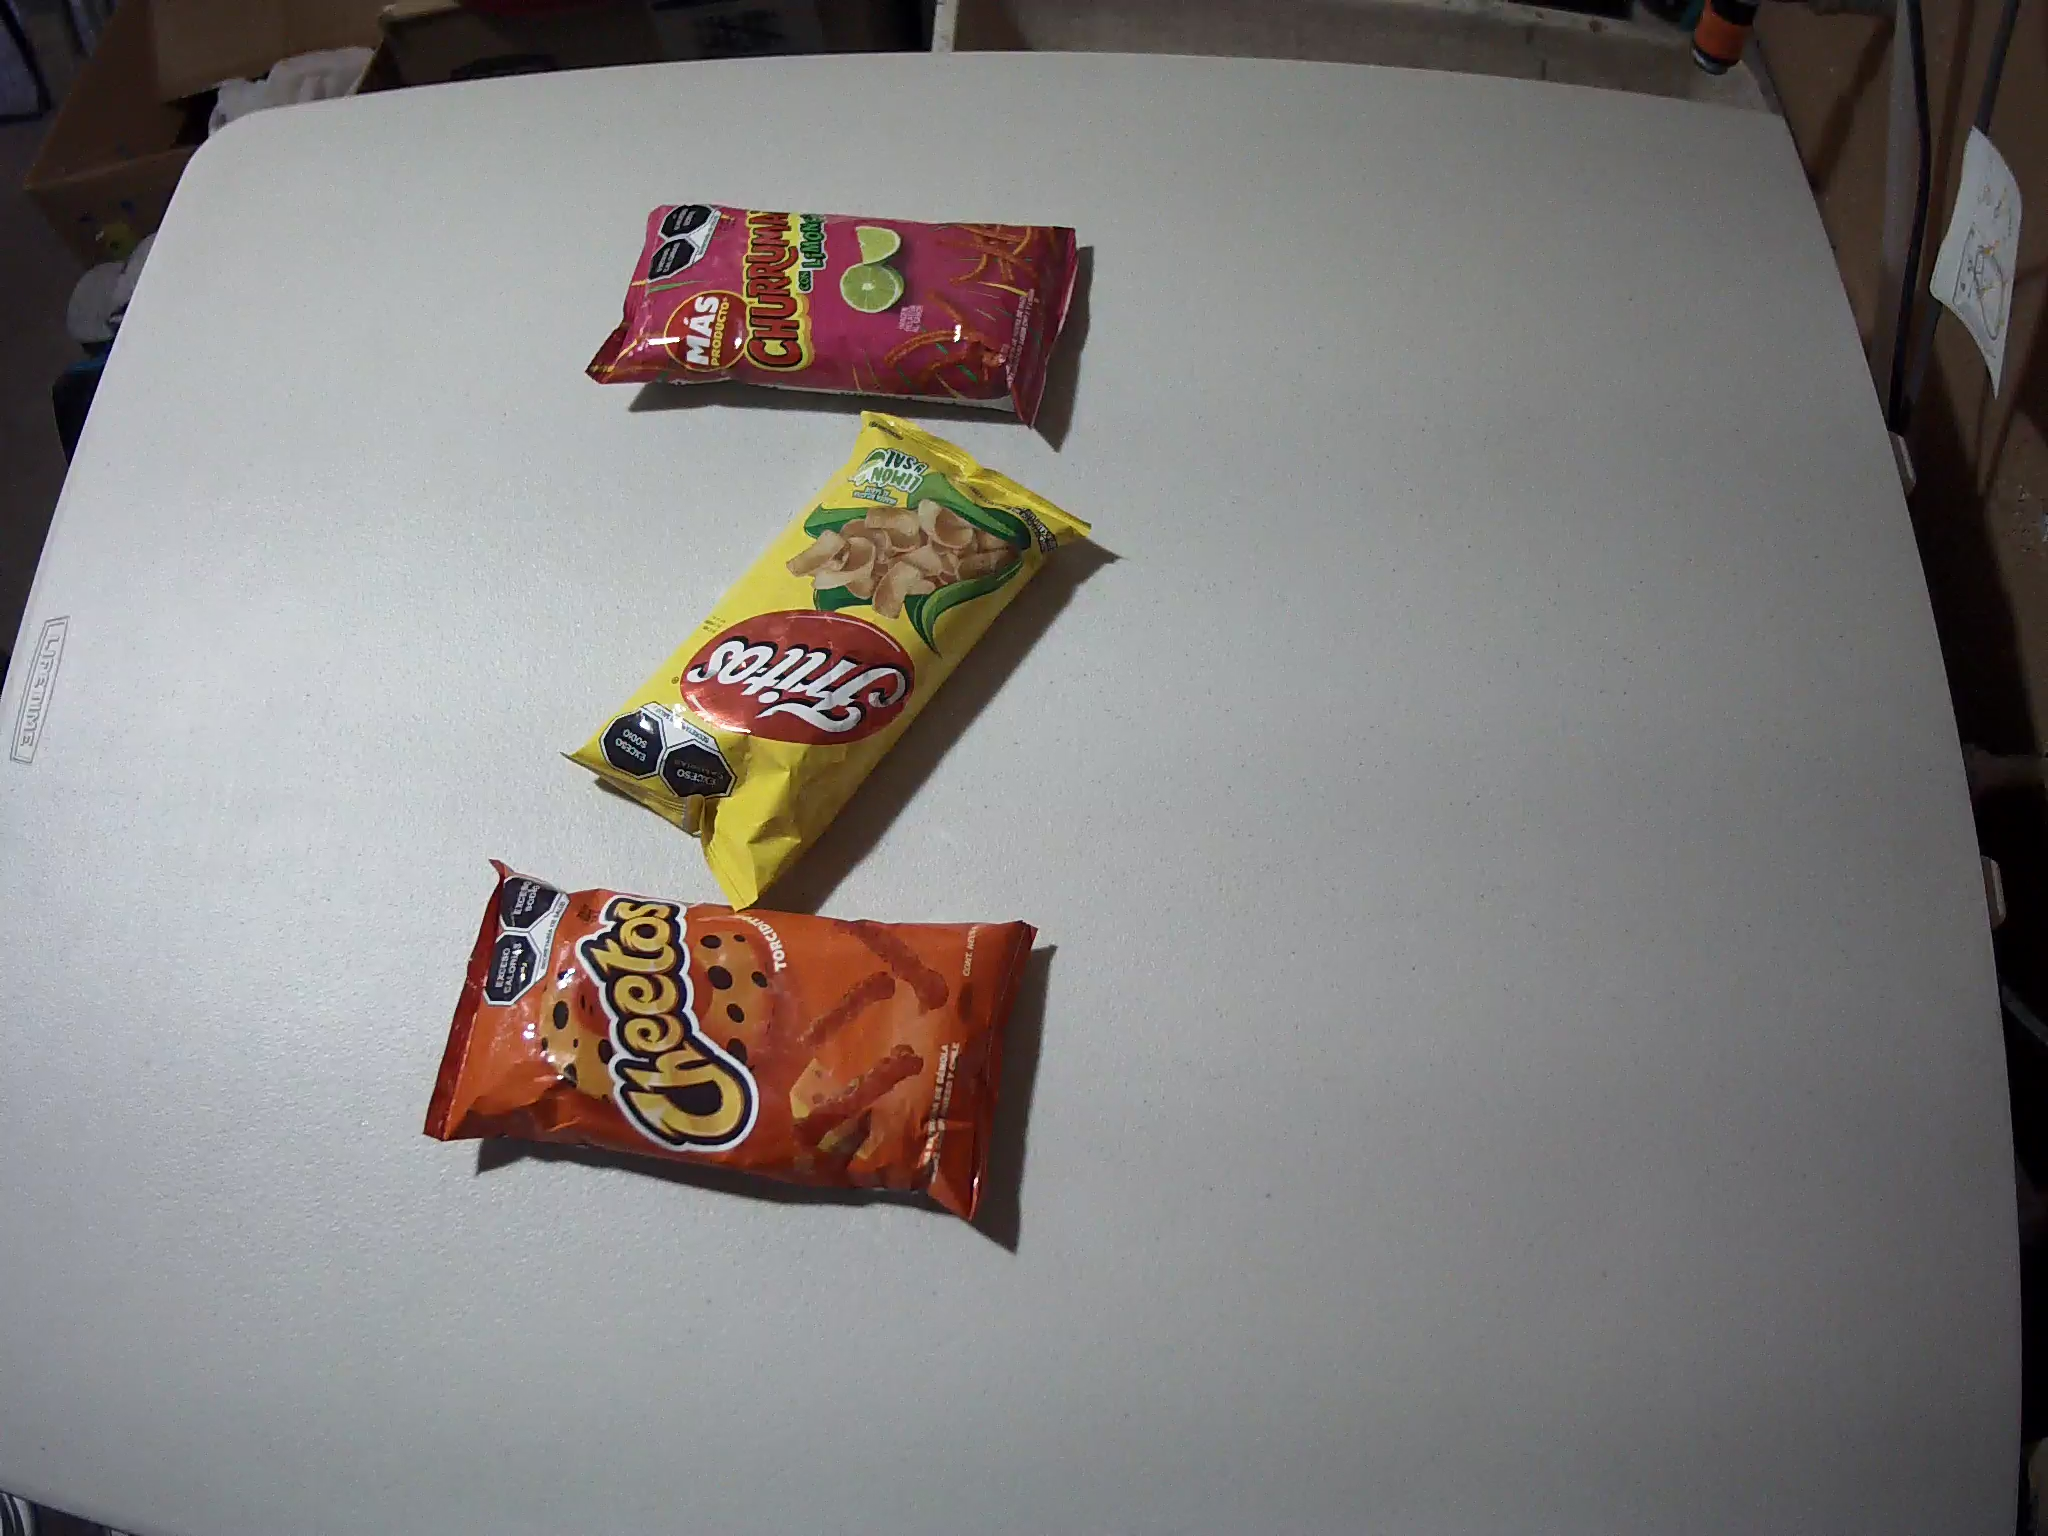CheetosTorciditos_55_F: (423, 857, 1042, 1221)
Churrumais_70_F: (585, 202, 1080, 428)
FritosSalLimon_65_F: (556, 410, 1093, 913)
